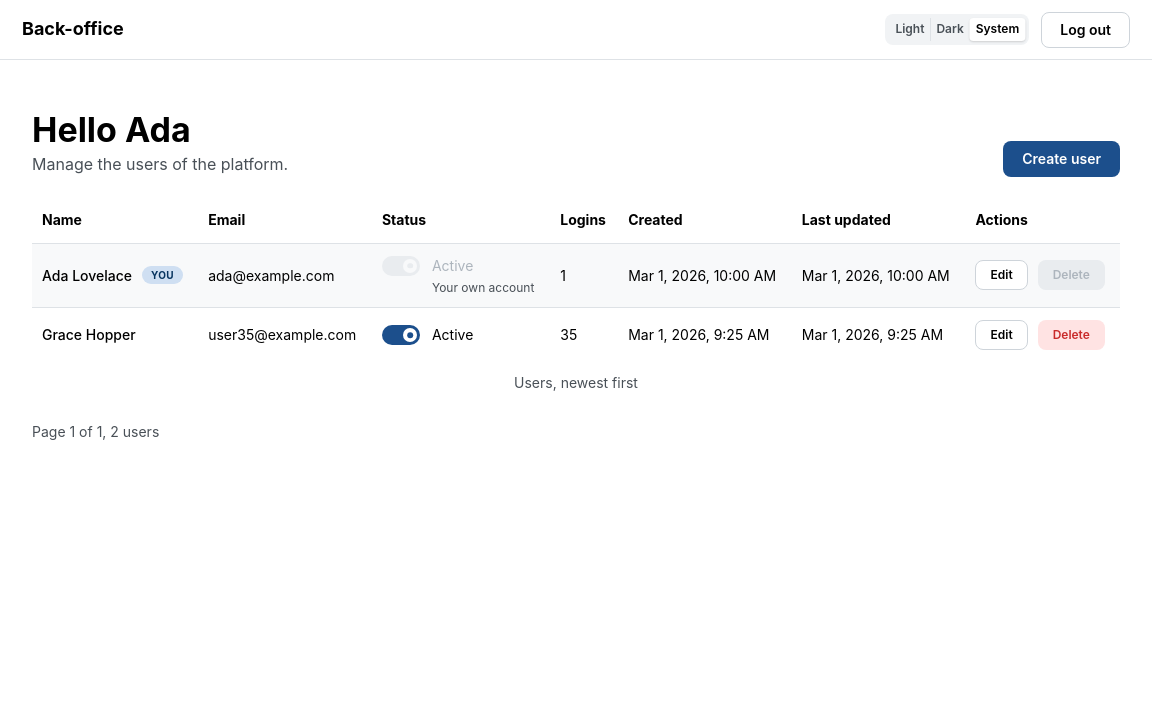
Scenario: dashboard: create, edit, status, delete › DASH-30 DASH-32 edits first and last name
The image size is (1152, 720).
Expected: the table is shown, left=32, top=197, right=1120, bottom=394
Click the button with aria-label "Edit Grace Hopper" at [1002, 335], box left=976, top=320, right=1028, bottom=350
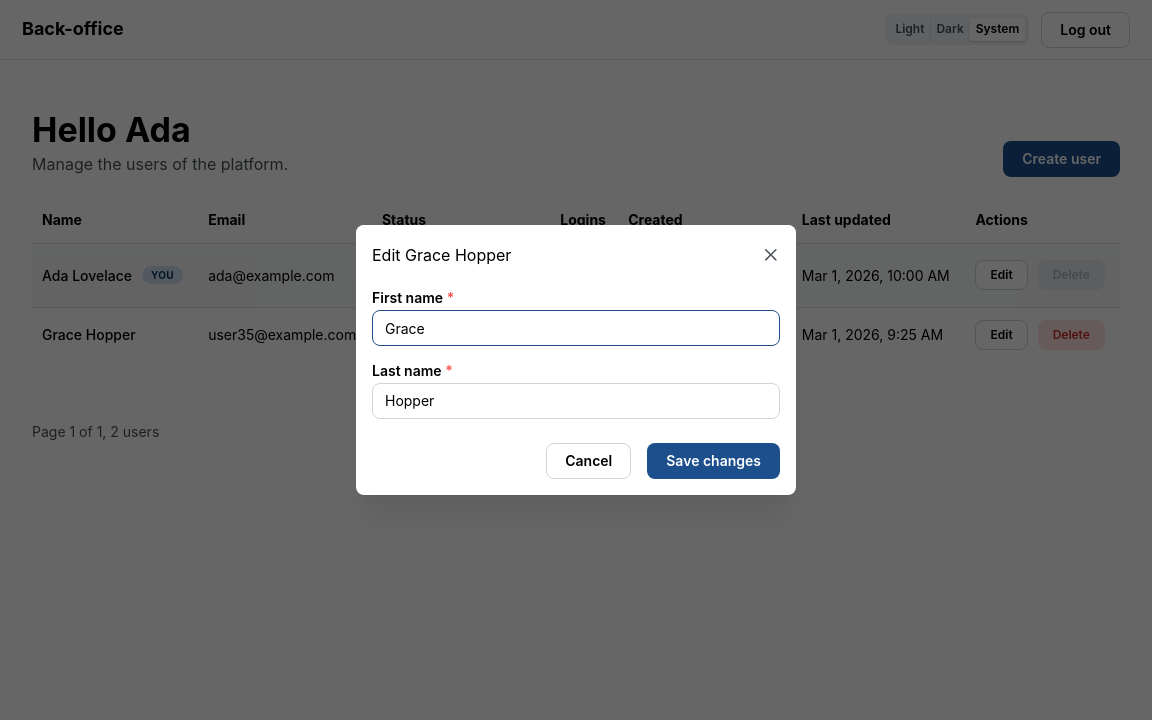
Now the field labelled "First name *" holds "Grace"
Replace the text in the field labelled "First name *" with "Rear Admiral Grace" at [576, 328], box left=372, top=310, right=780, bottom=346
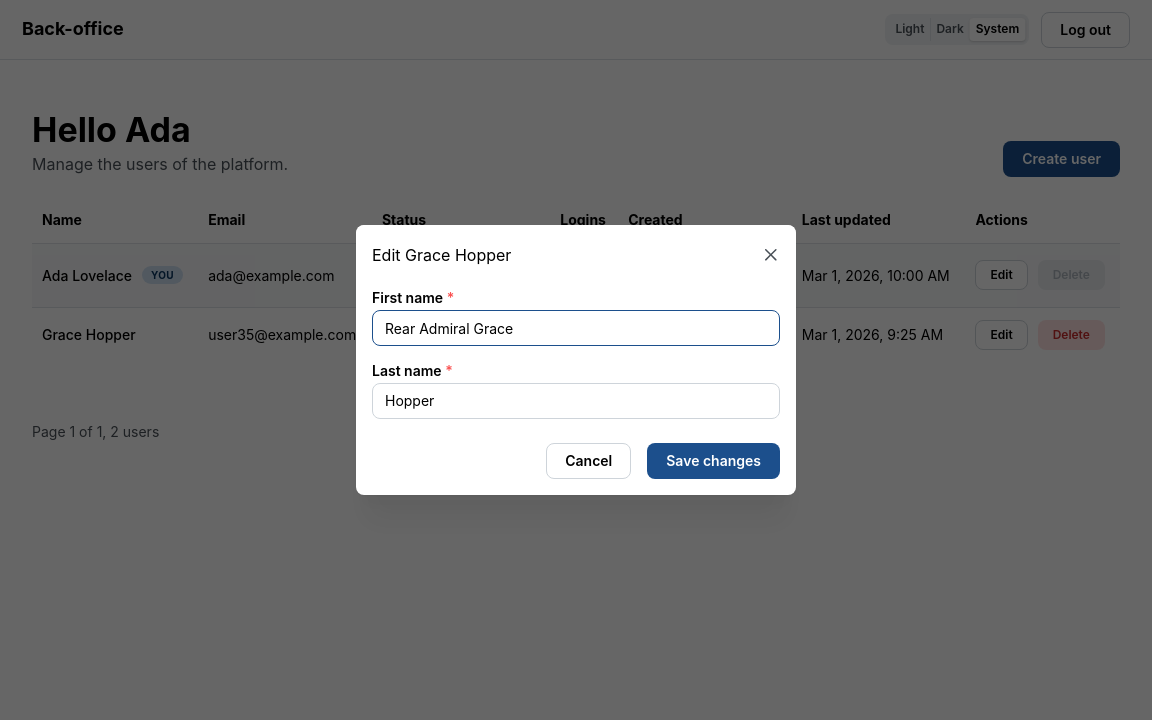
Click the button "Save changes" at [714, 461], box left=647, top=443, right=780, bottom=479
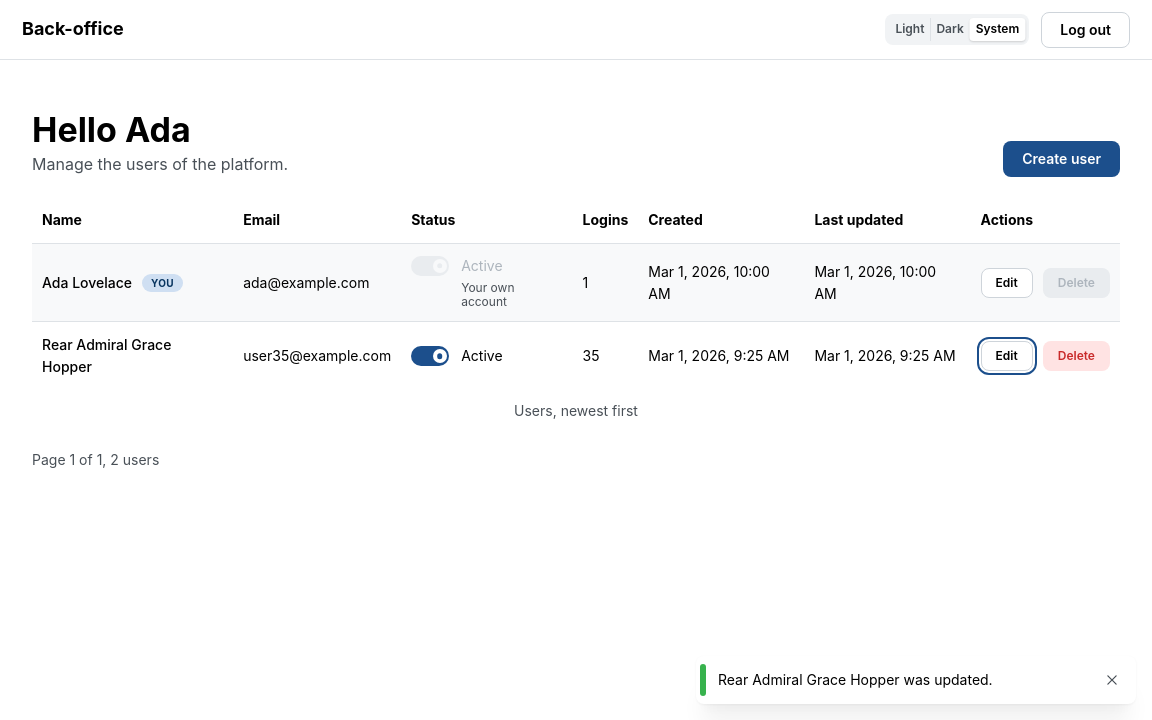
Now the column heading "Rear Admiral Grace Hopper" is shown, box left=32, top=322, right=233, bottom=390
